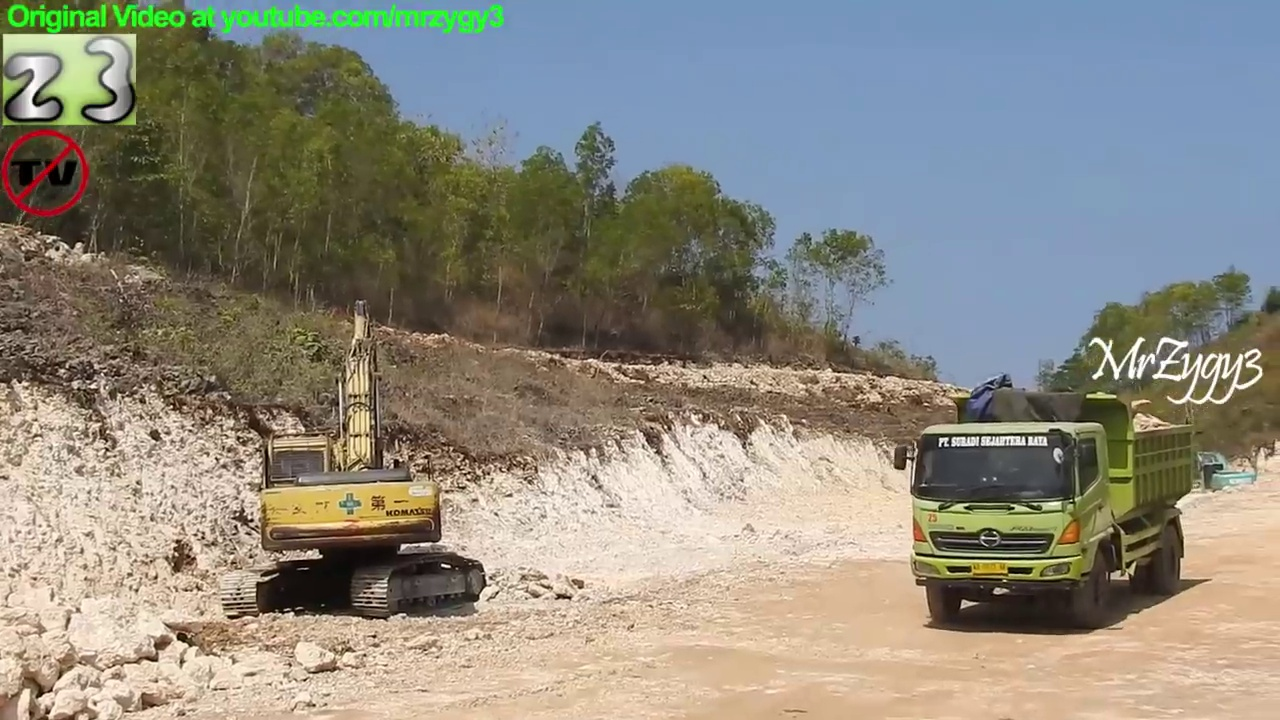excavator: (1162, 444, 1260, 512)
excavator breaker: (213, 293, 493, 626)
truck: (888, 386, 1200, 634)
